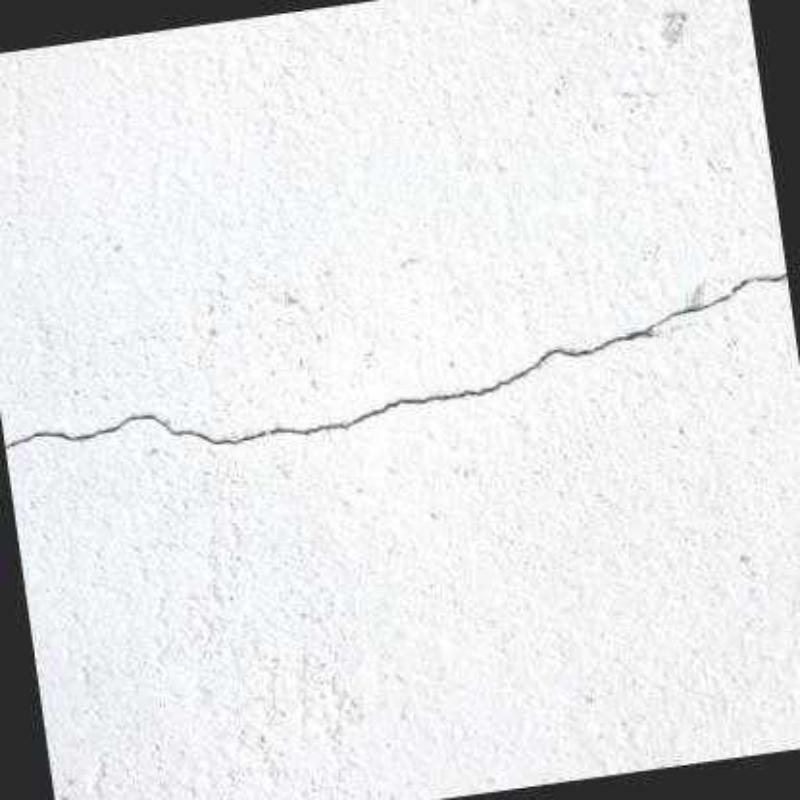pothole: (2, 267, 786, 458)
